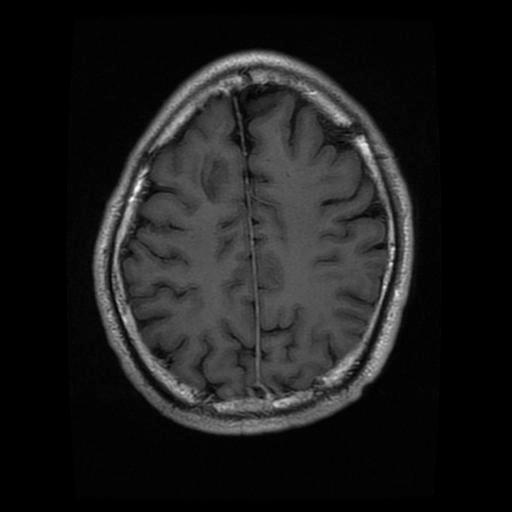Tumour-Glioma: (187, 141, 250, 223)
